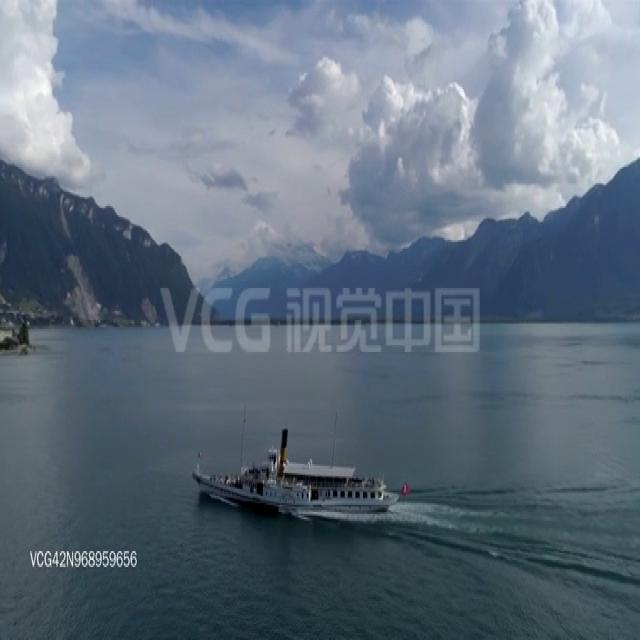passenger ship: (194, 429, 395, 515)
